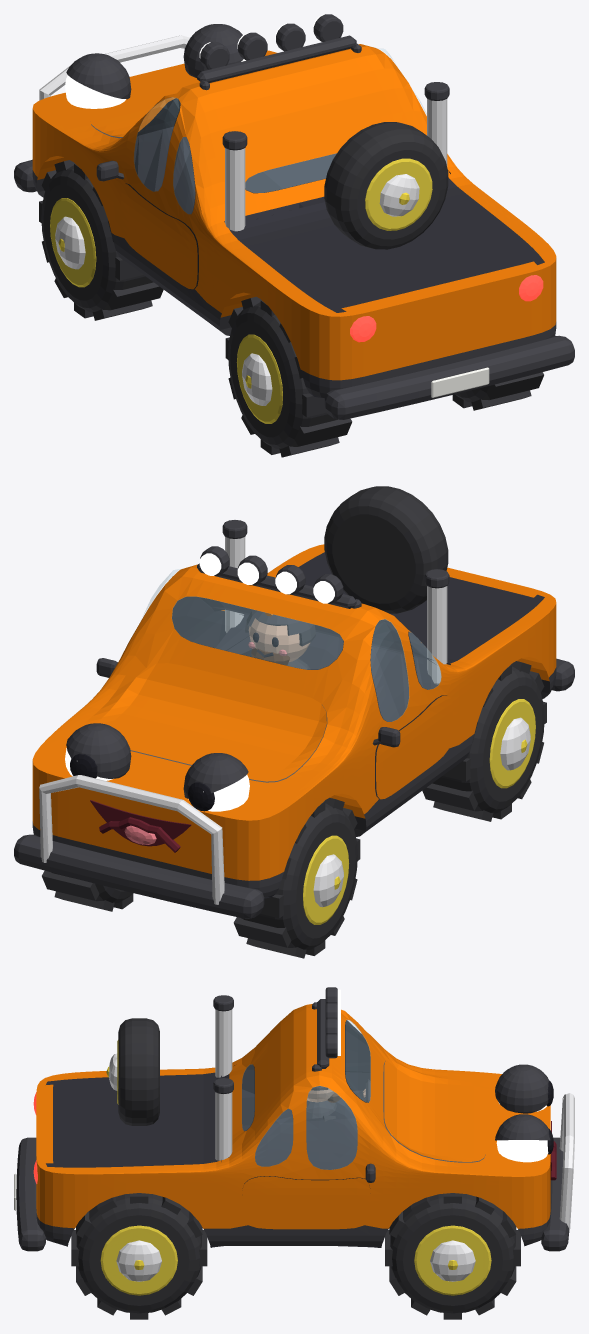
File: car_bruno.glb
The picture shows the model from 3 angles, top to bottom: view 1: azimuth 30°, elevation 25°; view 2: azimuth 150°, elevation 25°; view 3: azimuth 270°, elevation 25°; orthographic projection. The views are drawn at different scales.
Visible parts, largest first — view 1: body, extra_spare, wheel_rl, wheel_fl, bumper_r, cabin, extra_rack, door_l, glass_l, face_lids, extra_stacks, bumper_f (+9 smaller); view 2: body, hood, extra_spare, bumper_f, wheel_fl, wheel_rl, cabin, glass_f, door_l, face_lids, glass_l, extra_rack (+9 smaller); view 3: body, wheel_rr, wheel_fr, hood, cabin, door_r, glass_r_side, extra_spare, face_lids, bumper_f, extra_stacks, bumper_r (+7 smaller).
Part boxes in pixels (x1,y1,x2,y2): body: (32, 44, 556, 397); extra_spare: (324, 122, 448, 249); wheel_rl: (225, 296, 352, 457); wheel_fl: (39, 160, 163, 320); bumper_r: (324, 335, 574, 419); cabin: (134, 98, 450, 219); extra_rack: (197, 14, 361, 90); door_l: (121, 183, 197, 289); glass_l: (134, 97, 194, 213); face_lids: (66, 24, 243, 99); extra_stacks: (222, 82, 449, 231); bumper_f: (14, 35, 189, 192); body: (32, 544, 556, 898); hood: (97, 663, 326, 781); extra_spare: (324, 486, 448, 613); bumper_f: (14, 775, 264, 918); wheel_fl: (233, 797, 360, 958); wheel_rl: (422, 661, 546, 821); cabin: (172, 596, 450, 721); glass_f: (172, 596, 343, 669); door_l: (376, 695, 452, 799); face_lids: (66, 723, 248, 798); glass_l: (371, 619, 441, 721); extra_rack: (197, 546, 361, 608); body: (36, 1004, 550, 1247); wheel_rr: (71, 1193, 207, 1319); wheel_fr: (385, 1193, 520, 1319); hood: (384, 1060, 486, 1161); cabin: (221, 1020, 370, 1169); door_r: (242, 1176, 370, 1229); glass_r_side: (255, 1086, 357, 1169); extra_spare: (117, 1018, 159, 1125); face_lids: (495, 1064, 550, 1140); bumper_f: (541, 1093, 574, 1251); extra_stacks: (213, 995, 233, 1160); bumper_r: (16, 1137, 45, 1251).
Bounding box in the file's own units: 2.39 × 2.33 × 4.58.
